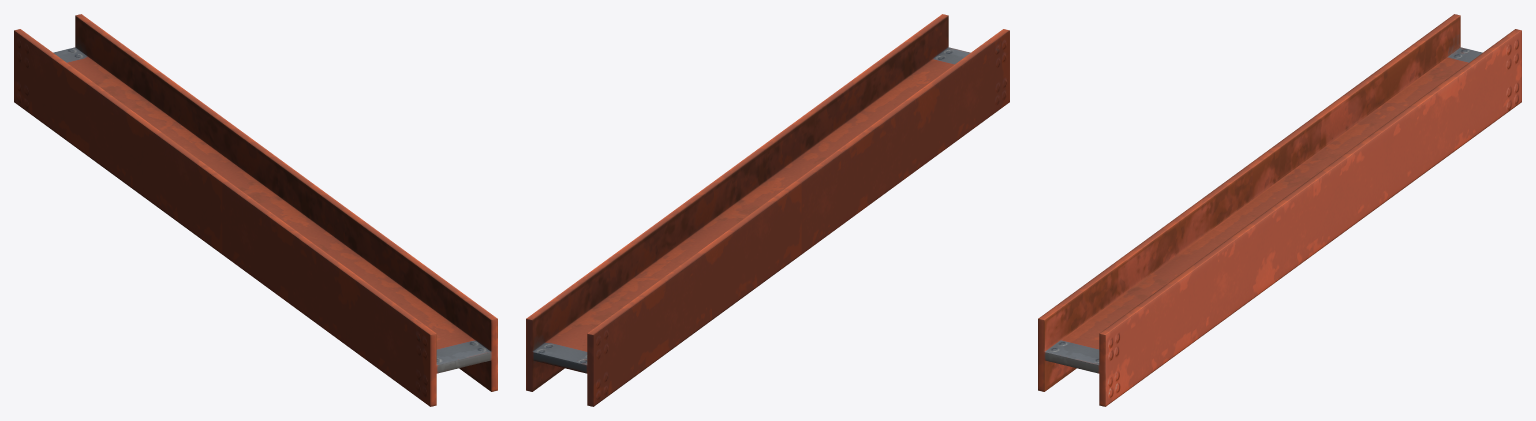
Rendered from con_H_beam.fbx.
The picture shows the model from 3 angles, left to right: view 1: azimuth 30°, elevation 25°; view 2: azimuth 150°, elevation 25°; view 3: azimuth 330°, elevation 25°; orthographic projection.
Parts seen in each view (by area): view 1: HBeam; view 2: HBeam; view 3: HBeam.
Part boxes in pixels (<box>): HBeam: <box>14,14,497,406</box>; HBeam: <box>526,14,1009,406</box>; HBeam: <box>1038,14,1521,406</box>.
Bounding box in the file's own units: 0.9328 × 0.9503 × 9.99.
